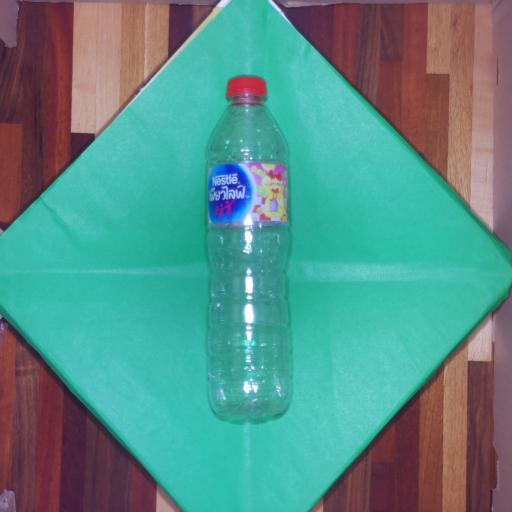bottle: (187, 60, 306, 436)
